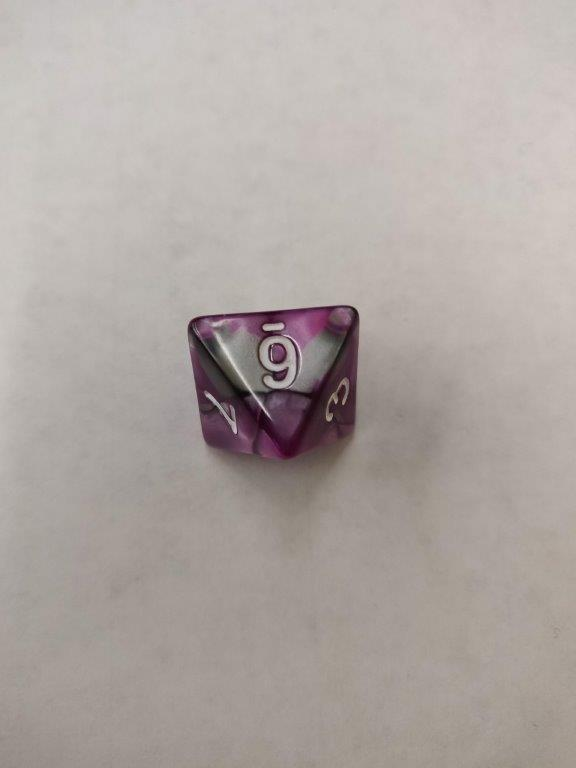d8-6: (189, 306, 359, 452)
